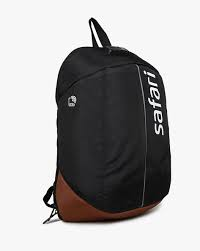backpack: (42, 16, 171, 223)
